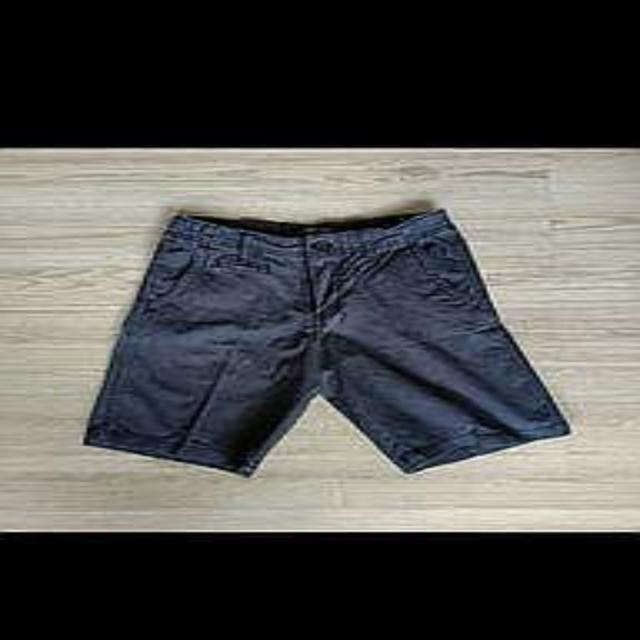SHORT: (66, 196, 583, 485)
